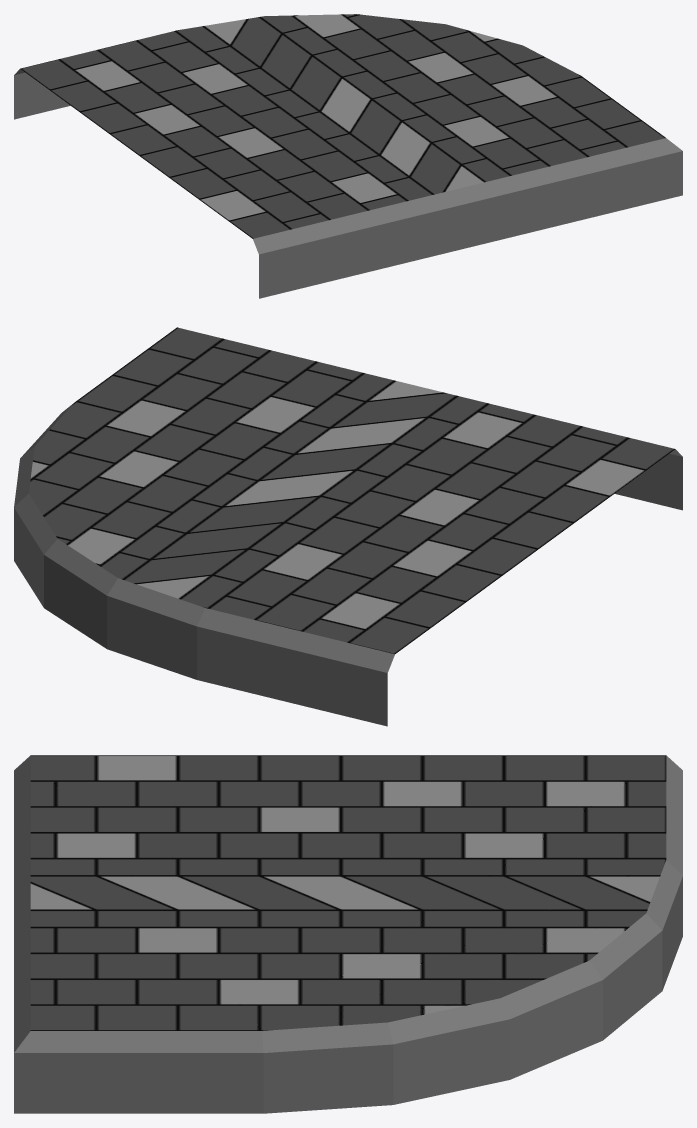
File: External_round_sidewalk_with_extra_border_2.fbx
3 renders of one model, top to bottom at view 1: azimuth 30°, elevation 25°; view 2: azimuth 150°, elevation 25°; view 3: azimuth 270°, elevation 25°, orthographic. The views are drawn at different scales.
Visible parts, largest first — view 1: Esquina redonda con bordillo trasero contrario; view 2: Esquina redonda con bordillo trasero contrario; view 3: Esquina redonda con bordillo trasero contrario.
Boxes of the visible parts, x1,y1,x2,y2 form: Esquina redonda con bordillo trasero contrario: (14,14,682,298); Esquina redonda con bordillo trasero contrario: (14,327,682,726); Esquina redonda con bordillo trasero contrario: (14,755,682,1113).
Size of the model in its own units: 800 by 100 by 800.
